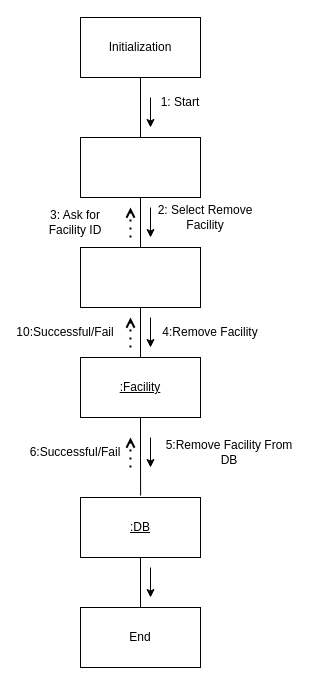
This 312x685 diagram has some shape labels left out. The centre of each missing label's shape, as x and y in pixels:
":Admin" belongs at [140,167].
":System" belongs at [140,277].
